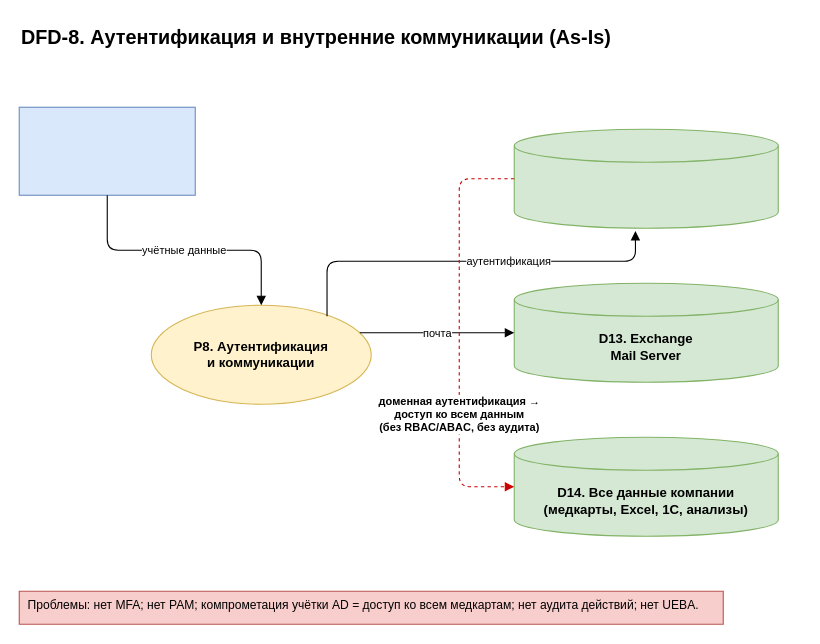
Image size: 820x644. Some labels were removed from this diagram. Each missing label, with the centre of its shape:
"D12. Active Directory / LDAP / DNS / DHCP" belongs at pixel 645 178.
"Сотрудники (все отделы)" belongs at pixel 106 150.
